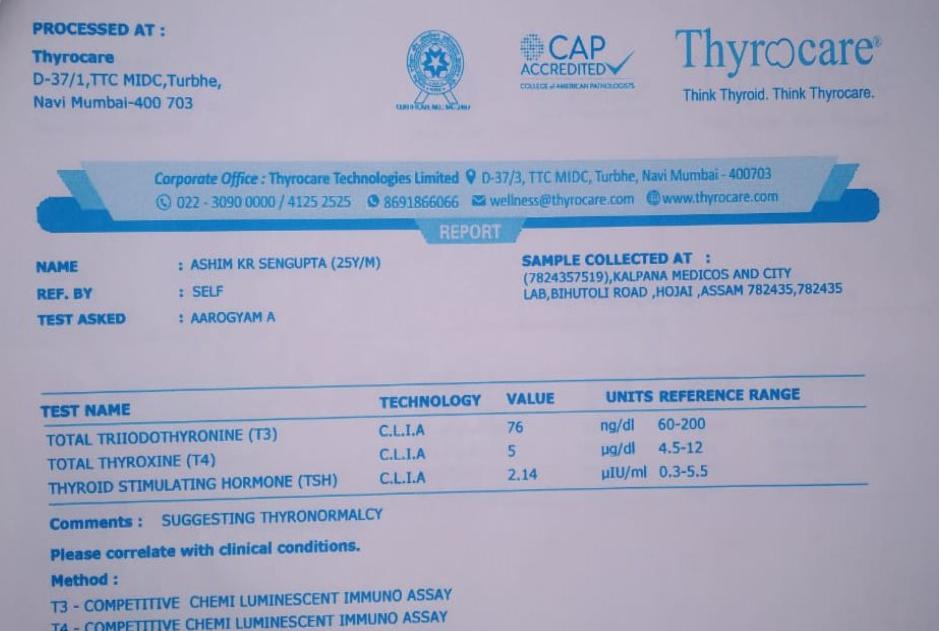Reference Range: (652, 409, 717, 487)
Test Name: (39, 421, 349, 502)
Units: (594, 411, 653, 486)
Value: (501, 413, 547, 489)
